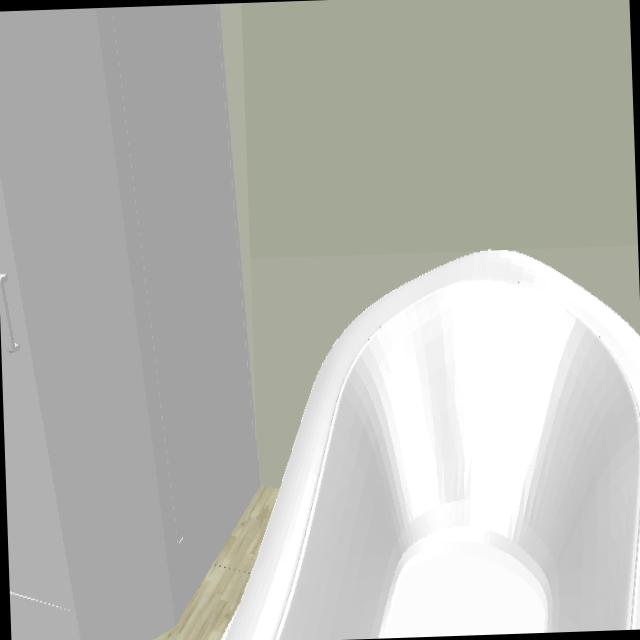bookshelf: (173, 250, 640, 640)
shower: (0, 3, 258, 640)
